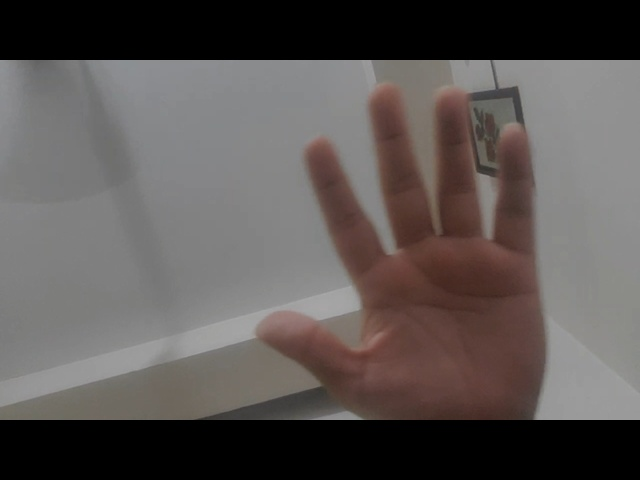Hello: (248, 74, 571, 418)
